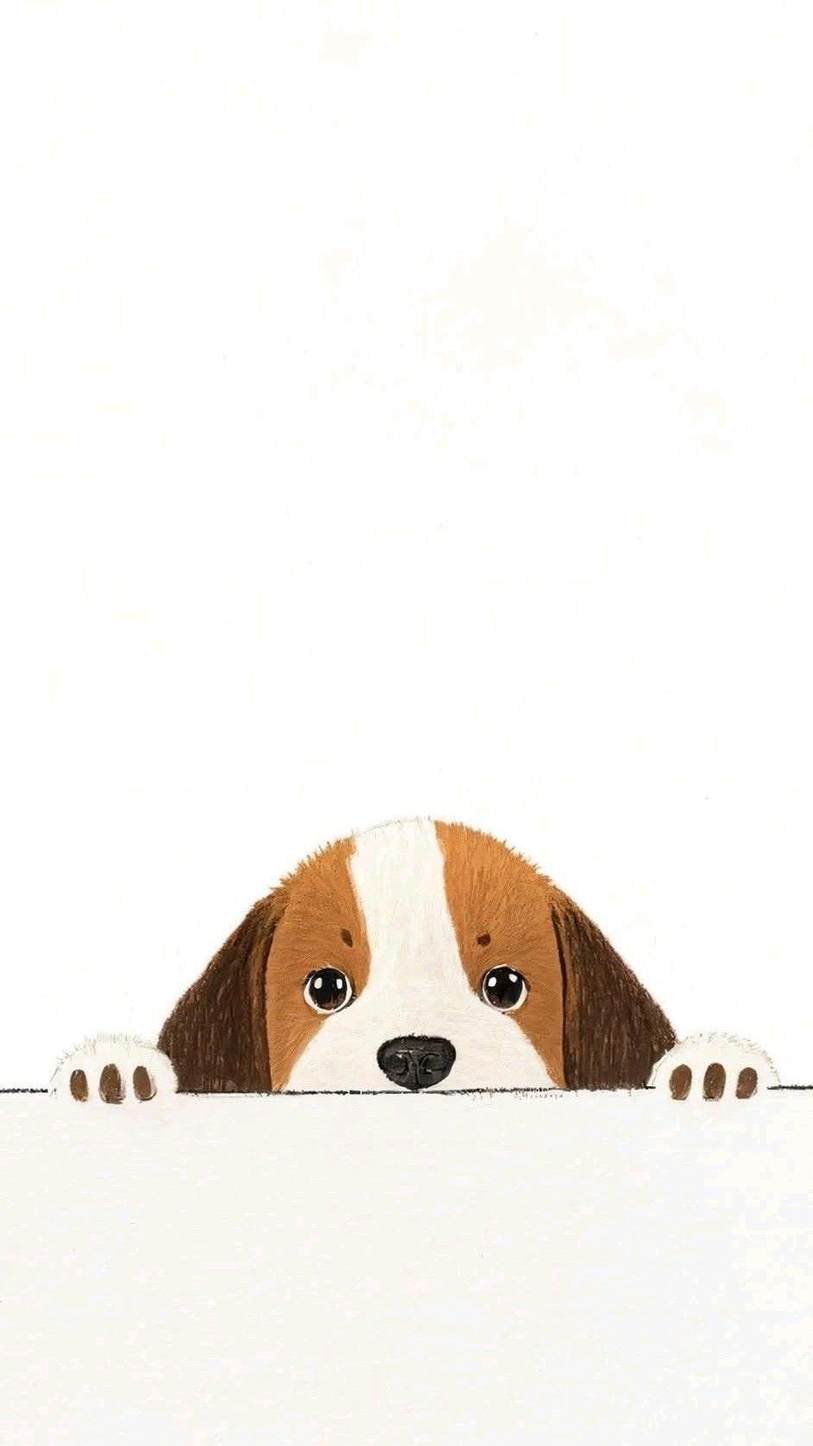puppy-dog: (48, 811, 783, 1114)
